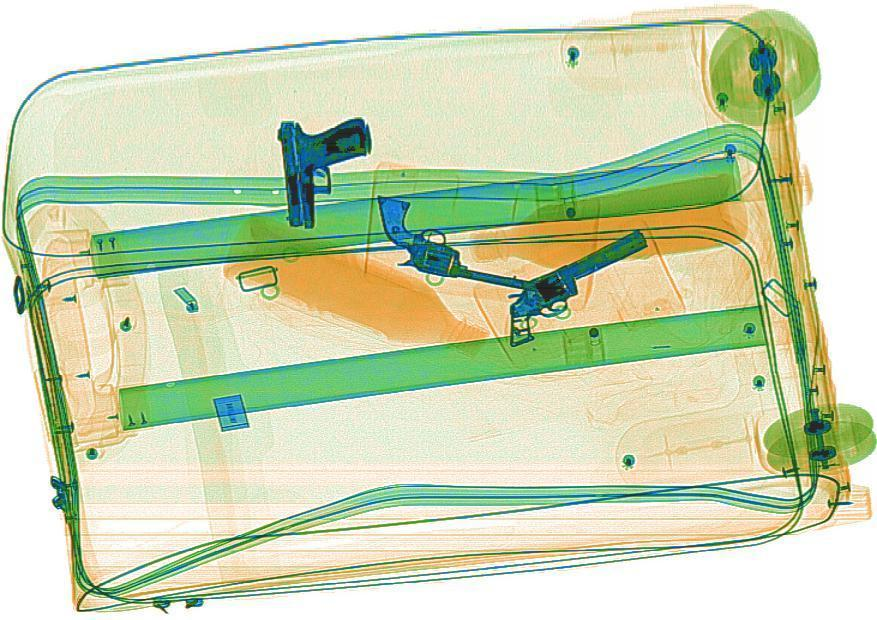Gun: (467, 227, 680, 350), (347, 193, 583, 296), (269, 113, 376, 226)
